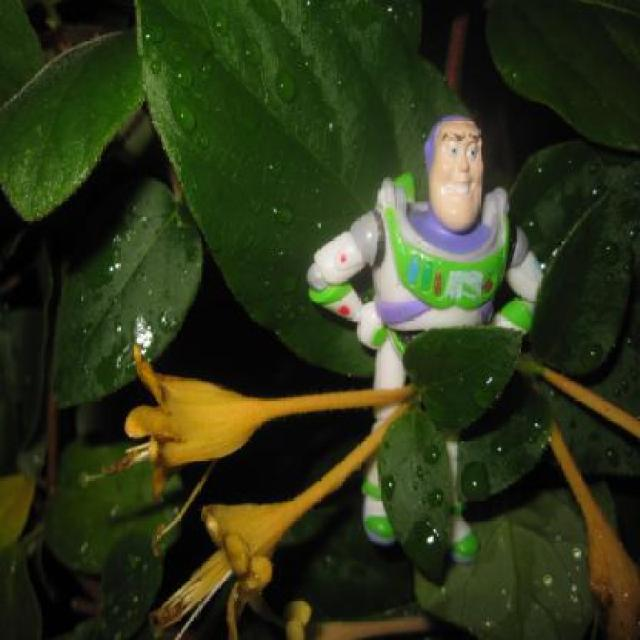Person: (306, 115, 543, 562)
